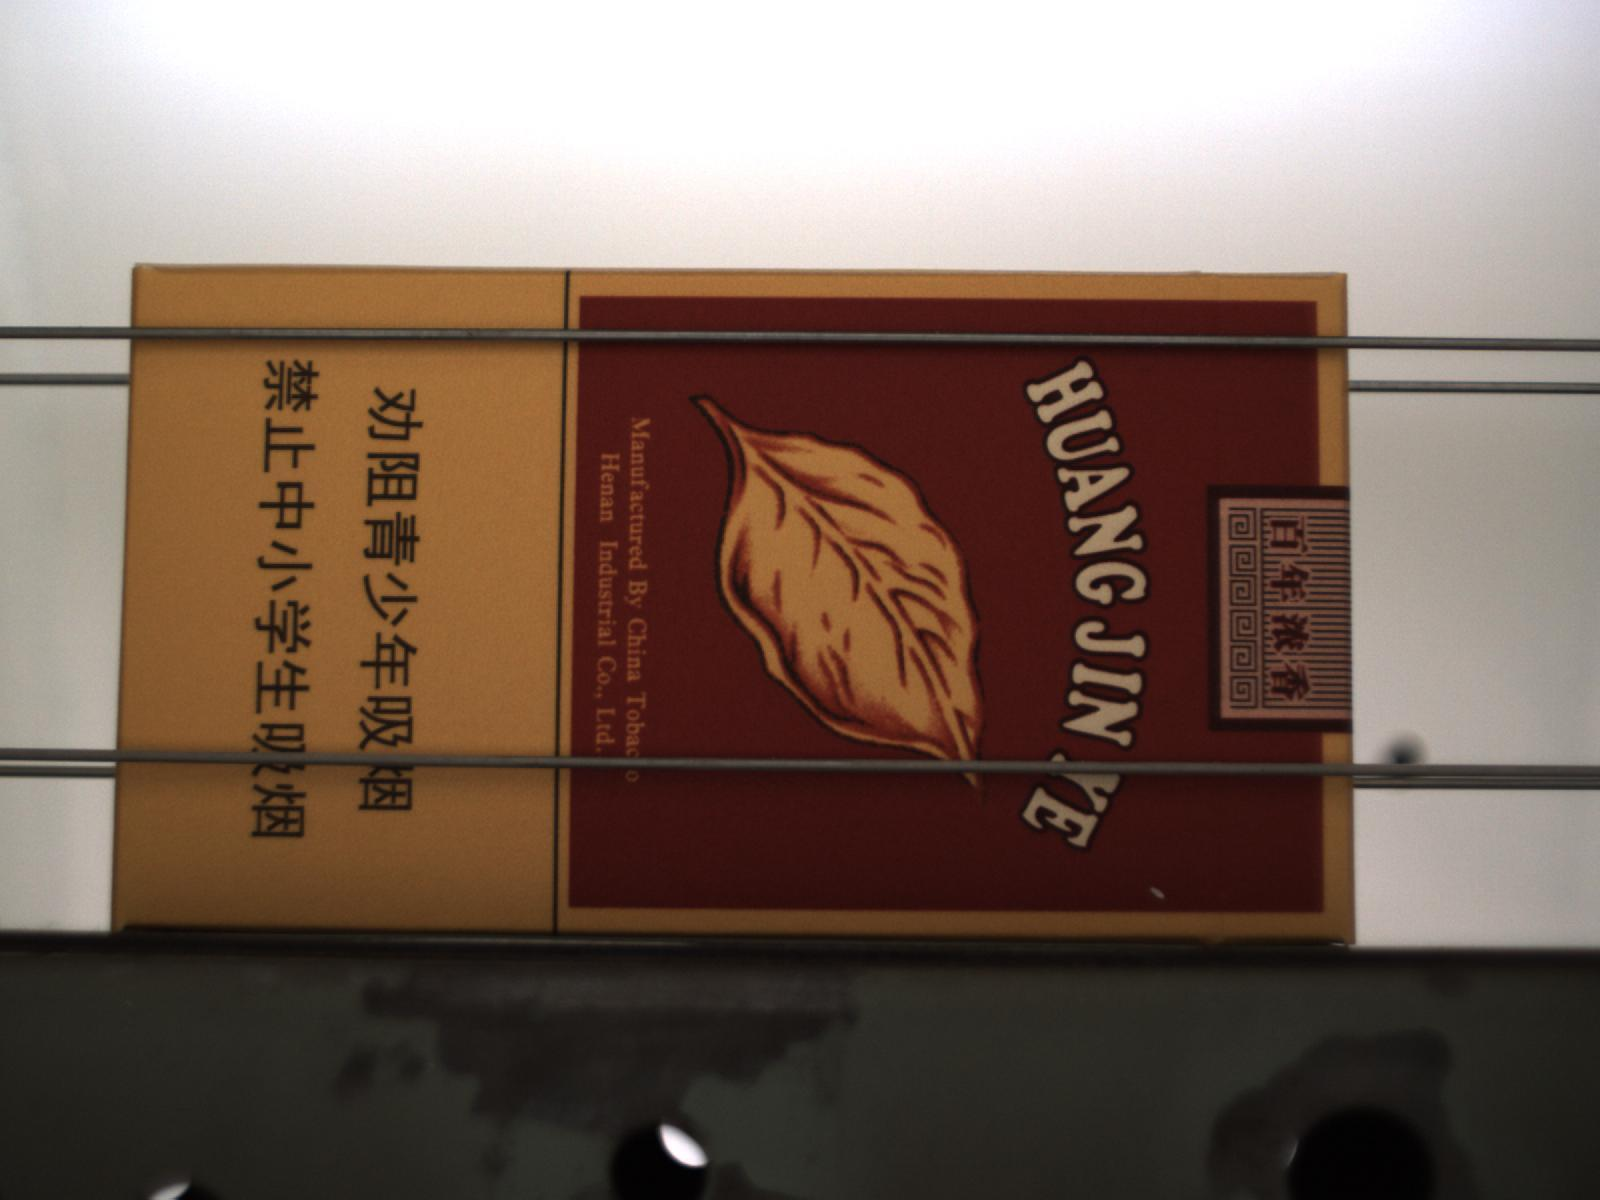dirtyPrint: (1146, 884, 1167, 900)
